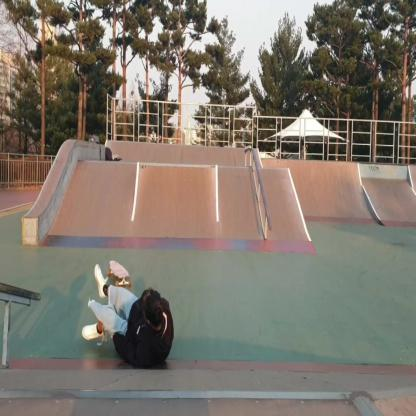Fall_Down: (78, 256, 176, 370)
